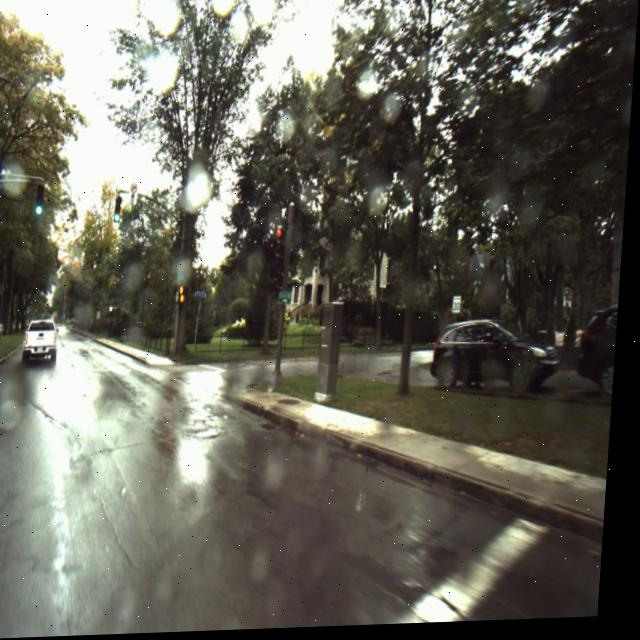car: (435, 322, 568, 403), (582, 310, 623, 403), (26, 319, 64, 366), (273, 227, 290, 297)
trafficLight: (181, 285, 191, 310)
trafficLight-Green: (37, 185, 49, 218), (117, 195, 126, 224)
